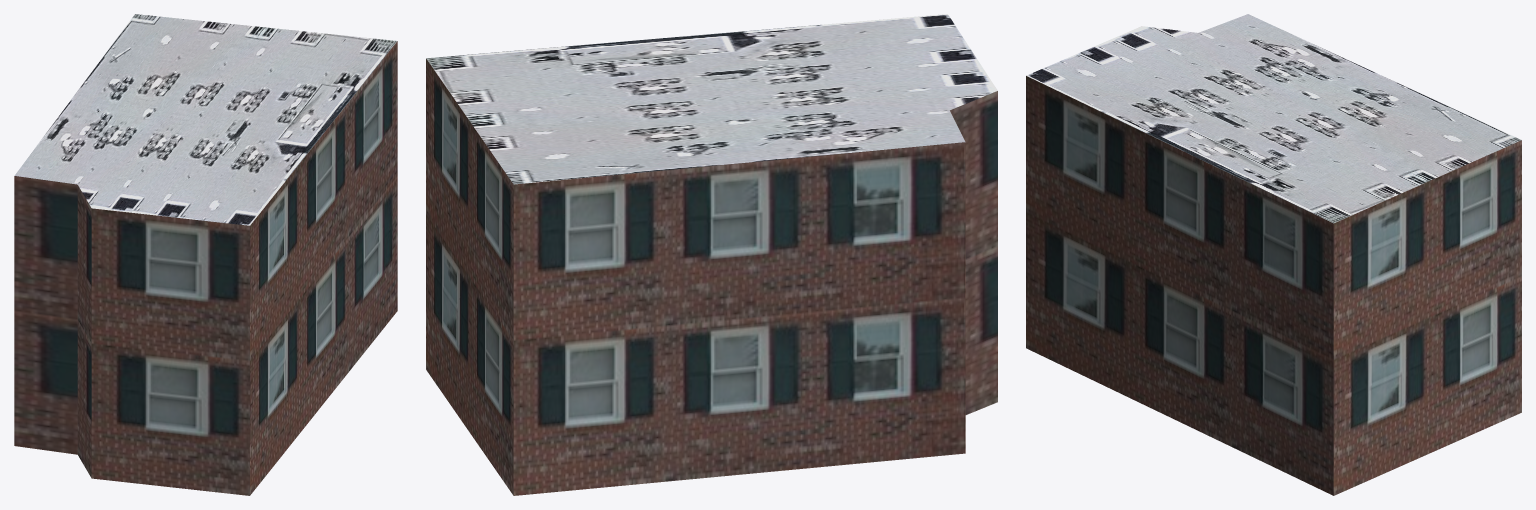
The model's file is ResTex__2759.fbx.
3 views of the same model, side by side, from view 1: azimuth 30°, elevation 25°; view 2: azimuth 150°, elevation 25°; view 3: azimuth 270°, elevation 25° (orthographic). The views are drawn at different scales.
Parts seen in each view (by area): view 1: CityEngineMaterial_14_m, CityEngineMaterial_4_m; view 2: CityEngineMaterial_14_m, CityEngineMaterial_4_m; view 3: CityEngineMaterial_14_m, CityEngineMaterial_4_m.
Boxes of the visible parts, bbox=[...] form: CityEngineMaterial_14_m: bbox=[14, 41, 397, 495]; CityEngineMaterial_4_m: bbox=[14, 14, 396, 225]; CityEngineMaterial_14_m: bbox=[426, 58, 997, 495]; CityEngineMaterial_4_m: bbox=[426, 14, 997, 184]; CityEngineMaterial_14_m: bbox=[1026, 76, 1521, 495]; CityEngineMaterial_4_m: bbox=[1026, 14, 1521, 223].
Bounding box in the file's own units: 9.89 × 6 × 9.89.
2 materials, 2 textured.
